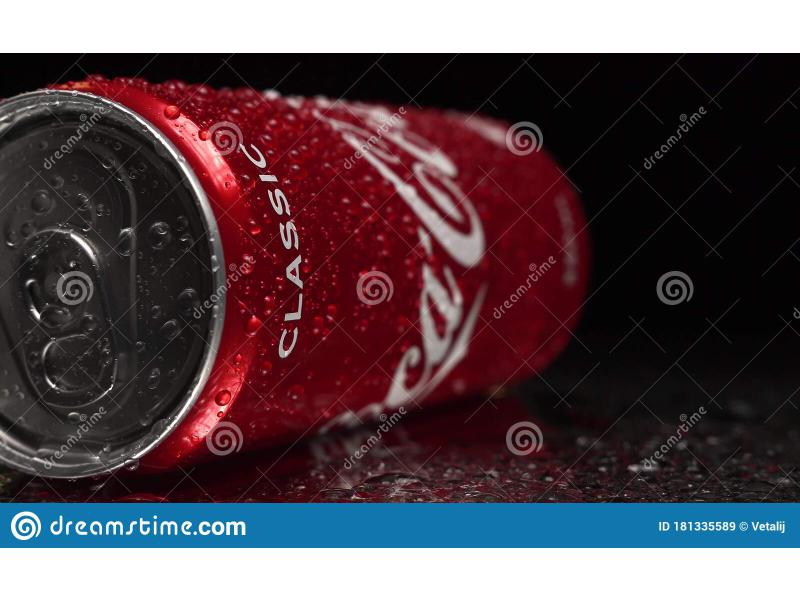can: (2, 78, 590, 487)
